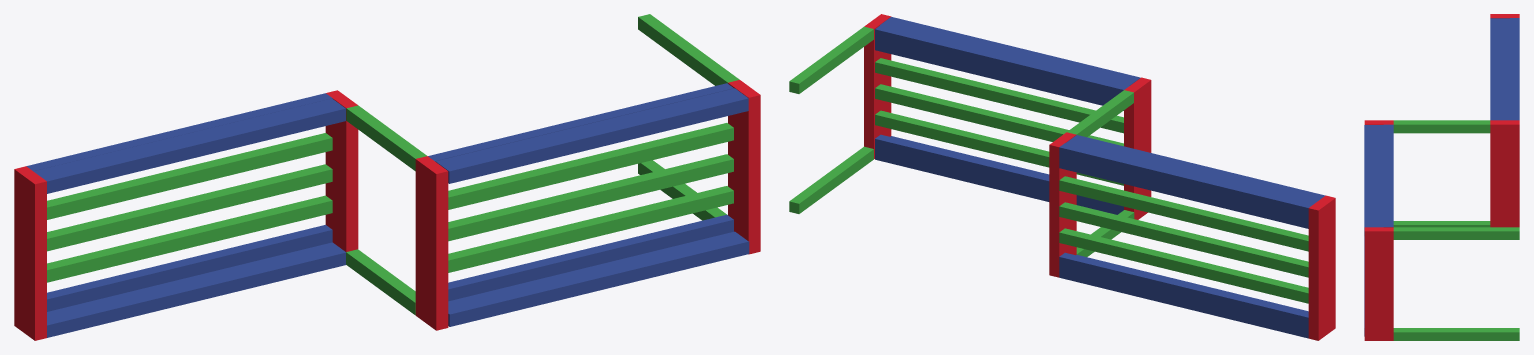
Rendered from tinker.obj.
The picture shows the model from 3 angles, left to right: view 1: azimuth 30°, elevation 25°; view 2: azimuth 150°, elevation 25°; view 3: azimuth 270°, elevation 25°; orthographic projection. The views are drawn at different scales.
Parts seen in each view (by area): view 1: group_0_3888547, group_0_4634441, group_0_15277357; view 2: group_0_3888547, group_0_4634441, group_0_15277357; view 3: group_0_15277357, group_0_3888547, group_0_4634441.
Boxes of the visible parts, x1,y1,x2,y2 form: group_0_3888547: [26, 83, 749, 337]; group_0_4634441: [47, 14, 739, 315]; group_0_15277357: [14, 80, 760, 340]; group_0_3888547: [875, 17, 1325, 338]; group_0_4634441: [789, 26, 1308, 303]; group_0_15277357: [864, 14, 1335, 340]; group_0_15277357: [1364, 14, 1519, 340]; group_0_3888547: [1364, 18, 1519, 336]; group_0_4634441: [1393, 120, 1519, 340].
Bounding box in the file's own units: 63.7 × 15 × 19.21.
